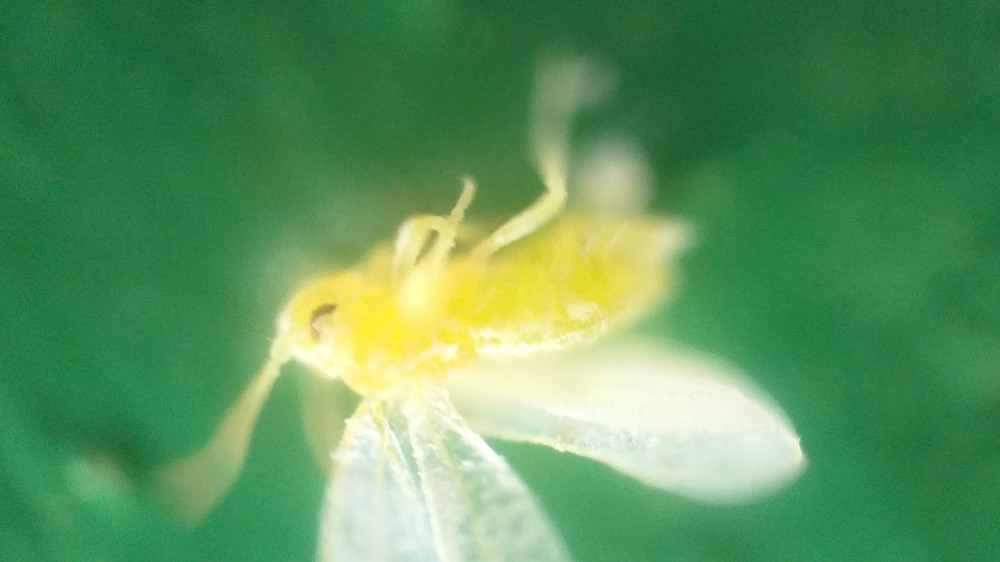Mosca Blanca: (189, 90, 821, 562)
